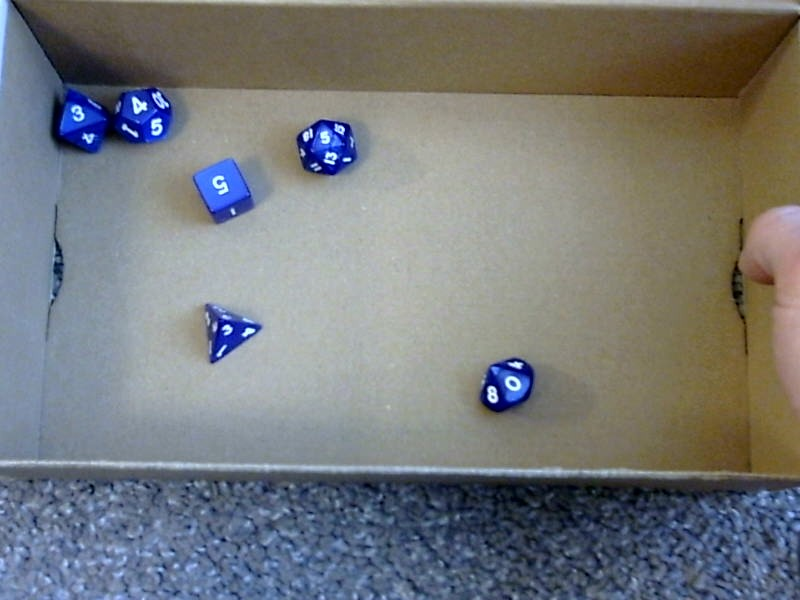d10 10: (475, 355, 534, 412)
d12 4: (113, 80, 173, 148)
d20 5: (290, 115, 357, 178)
d4 3: (190, 301, 265, 368)
d6 5: (186, 156, 256, 224)
d8 3: (43, 80, 110, 157)
